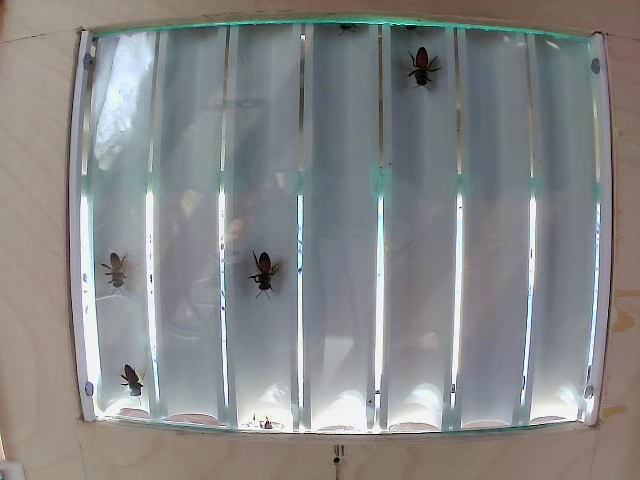bee: (247, 247, 282, 301), (411, 34, 436, 91), (98, 253, 124, 288), (115, 365, 138, 402)
